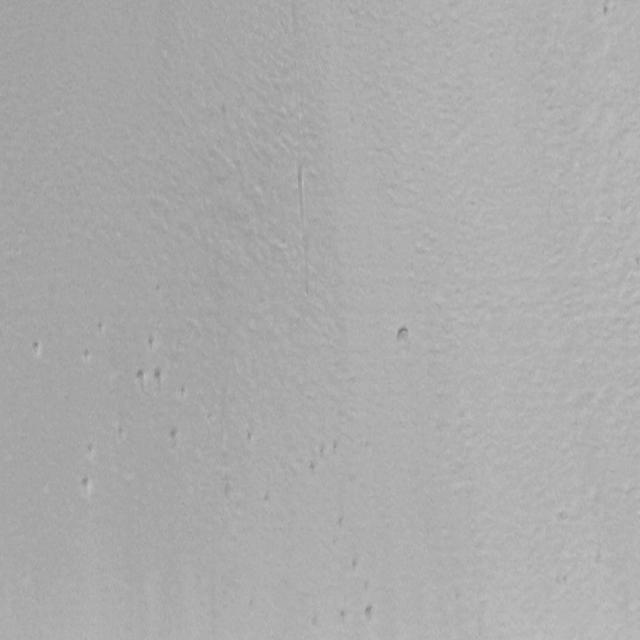pin holes: (392, 322, 413, 350), (600, 0, 620, 20), (361, 604, 380, 625), (79, 474, 96, 496), (133, 367, 149, 390), (222, 481, 235, 506), (166, 426, 182, 446), (152, 367, 167, 388), (30, 338, 44, 358), (338, 608, 352, 626), (85, 441, 98, 460), (306, 459, 320, 476), (144, 334, 157, 352), (349, 556, 362, 574), (82, 345, 95, 362), (95, 321, 108, 338), (244, 429, 254, 447), (318, 443, 330, 458), (330, 438, 340, 456), (264, 492, 275, 506)
